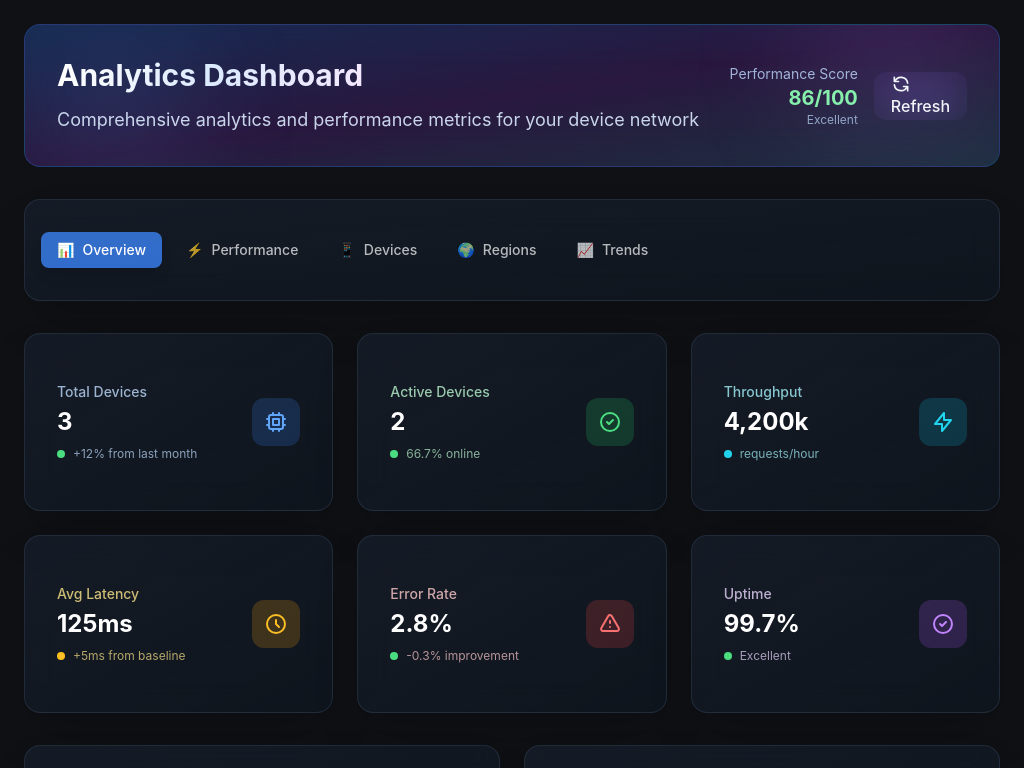
Test: Analytics - Refresh Functionality › should clear error on successful retry
This screenshot has width=1024, height=768.
Trigger refresh to cause error
Step 1. Click the button "Refresh" → coordinates (920, 96), box [874,72,967,120]
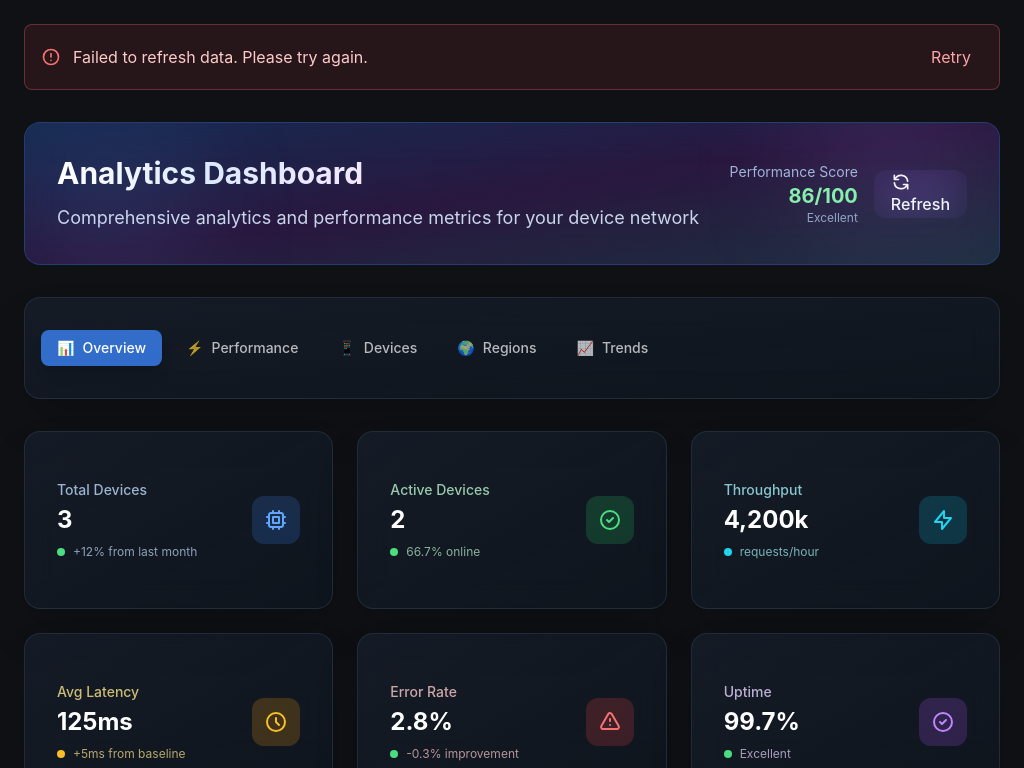
Result: the text "Failed to refresh data. Please try again." is shown at [73,47,368,67]
Click retry
Step 2. Click the button "Retry" → coordinates (951, 57), box [919,41,983,73]
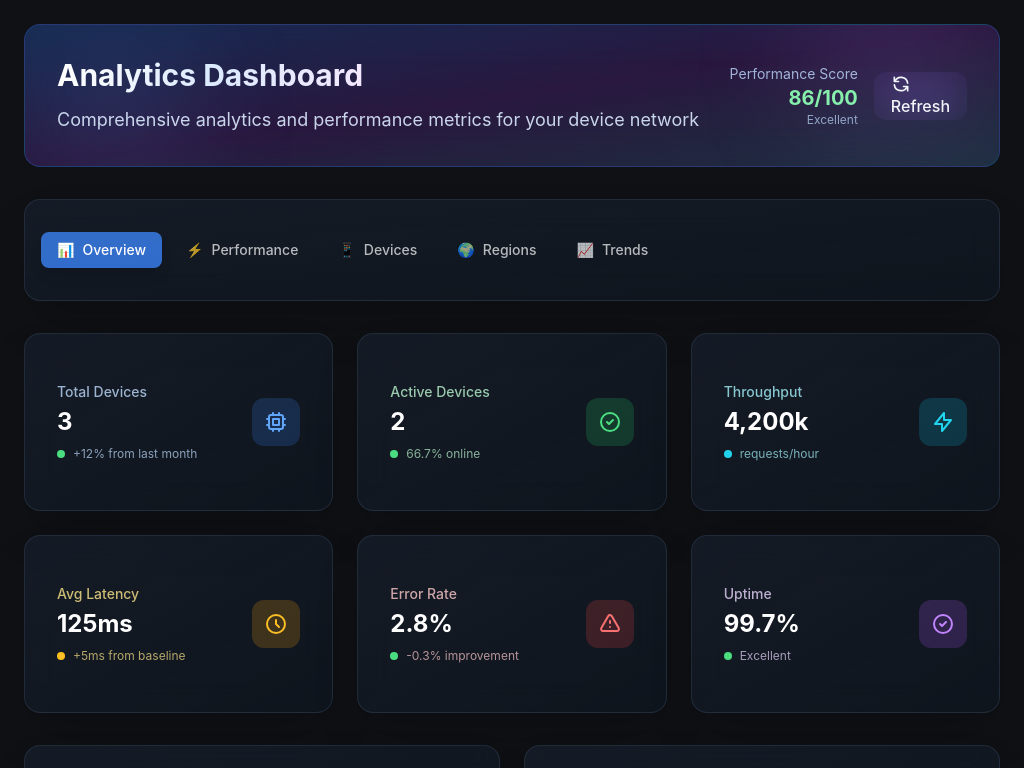
Result: the text "Failed to refresh data" is gone
